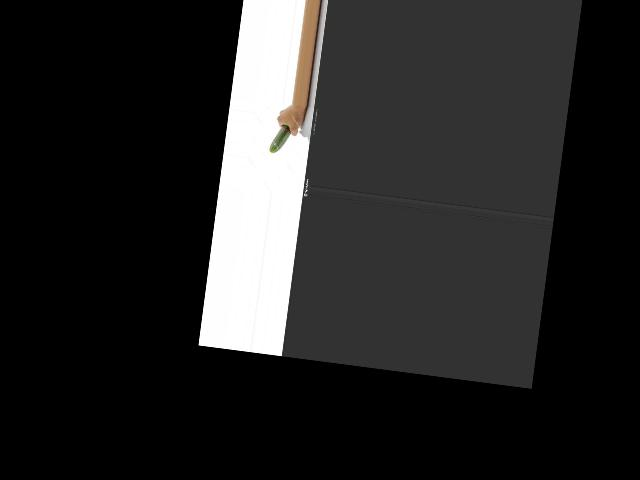cucumber: (269, 123, 291, 154)
